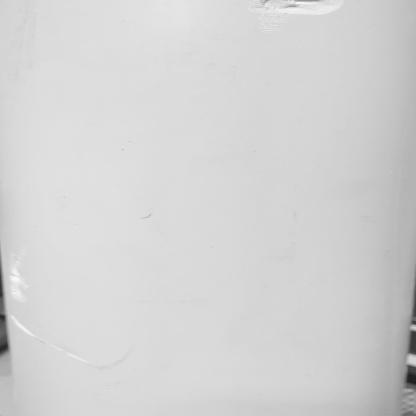sunshang: (7, 242, 37, 342), (257, 3, 359, 20)
